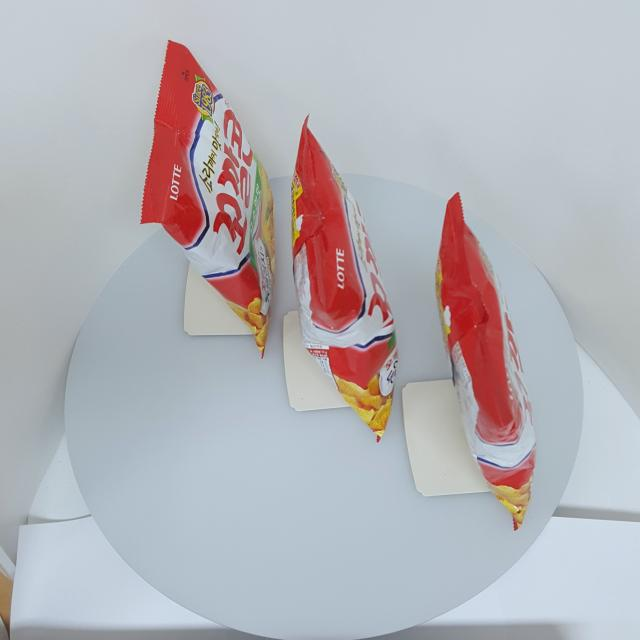-72G: (140, 41, 276, 361), (293, 114, 400, 444), (435, 192, 538, 532), (353, 233, 354, 234)
